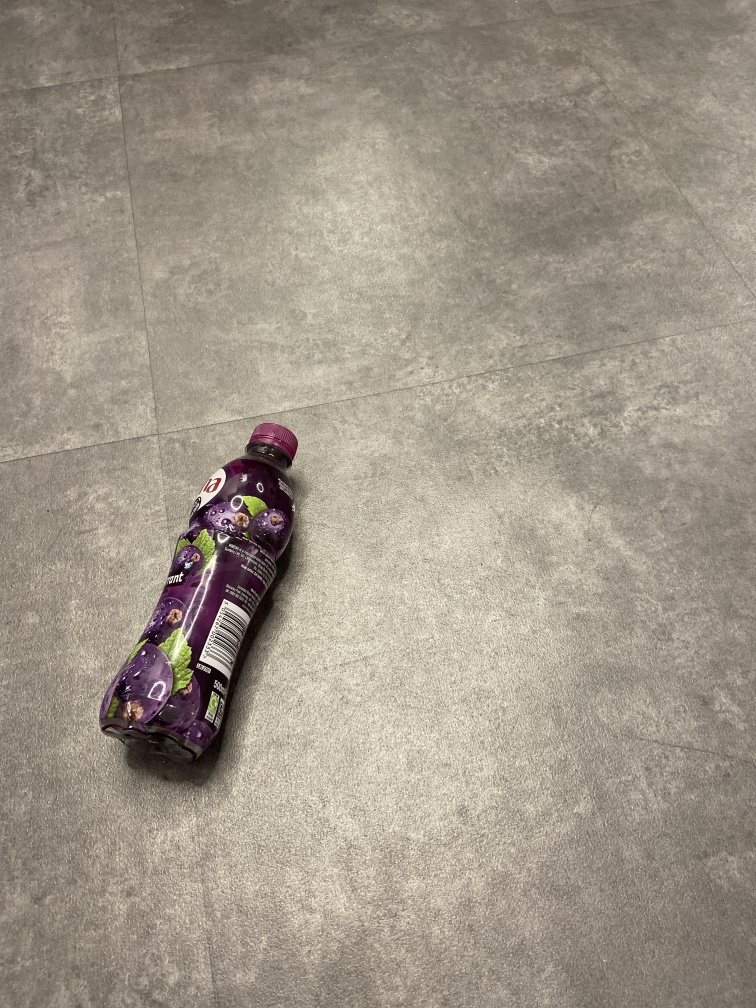bottle_purple: (94, 420, 304, 764)
